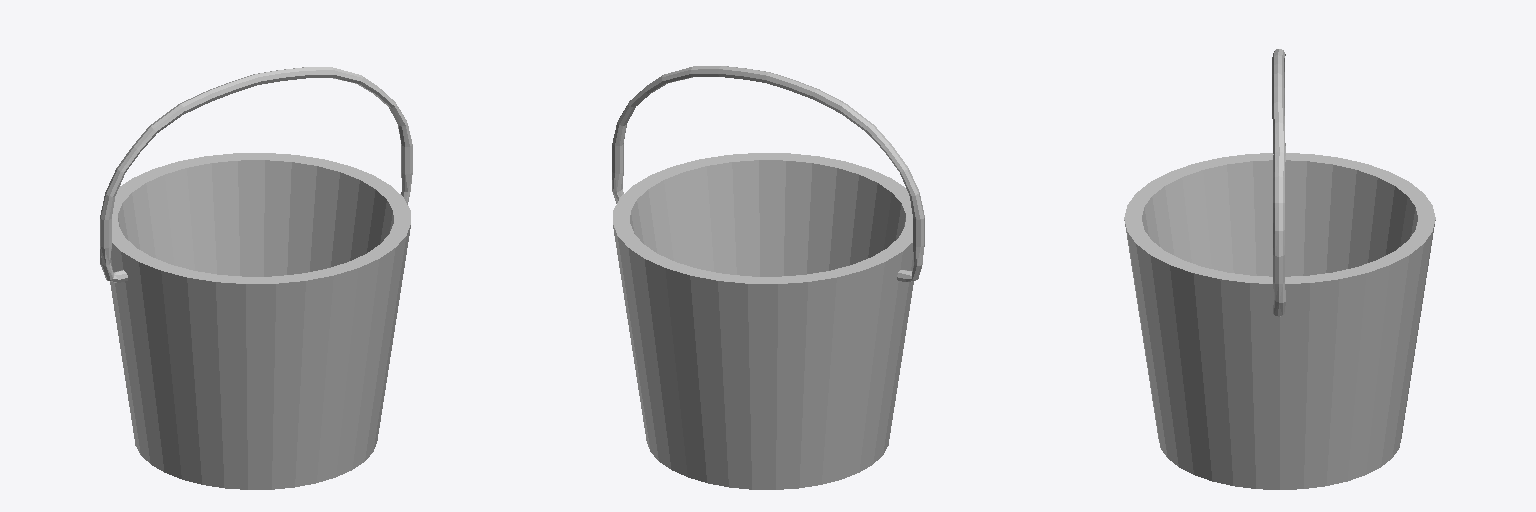
The model's file is bucket.obj.
3 renders of one model, left to right at view 1: azimuth 30°, elevation 25°; view 2: azimuth 150°, elevation 25°; view 3: azimuth 270°, elevation 25°, orthographic.
Parts seen in each view (by area): view 1: Circle; view 2: Circle; view 3: Circle.
Boxes of the visible parts, x1,y1,x2,y2 form: Circle: [100, 67, 412, 489]; Circle: [612, 66, 924, 489]; Circle: [1124, 49, 1435, 489].
Size of the model in its own units: 2.96 by 3.32 by 2.56.